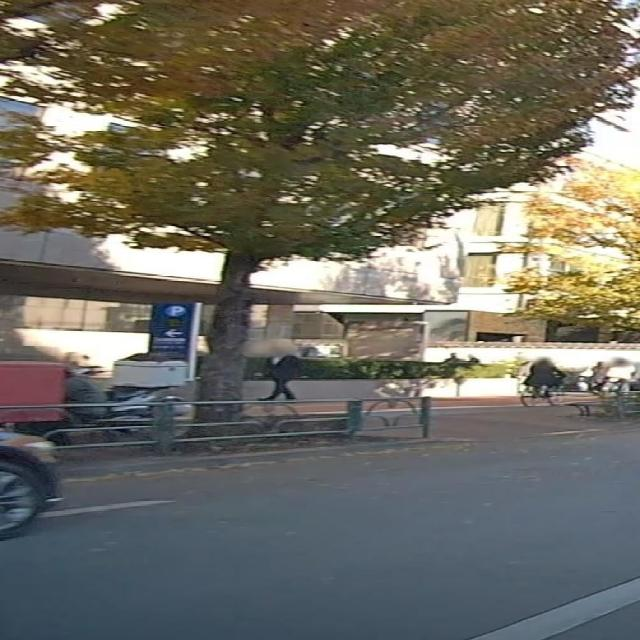maple: (0, 0, 640, 446)
